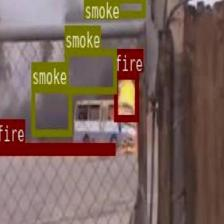fire: (0, 142, 114, 154), (114, 71, 137, 120)
smoke: (64, 49, 116, 92), (32, 85, 72, 134), (83, 0, 144, 16)
